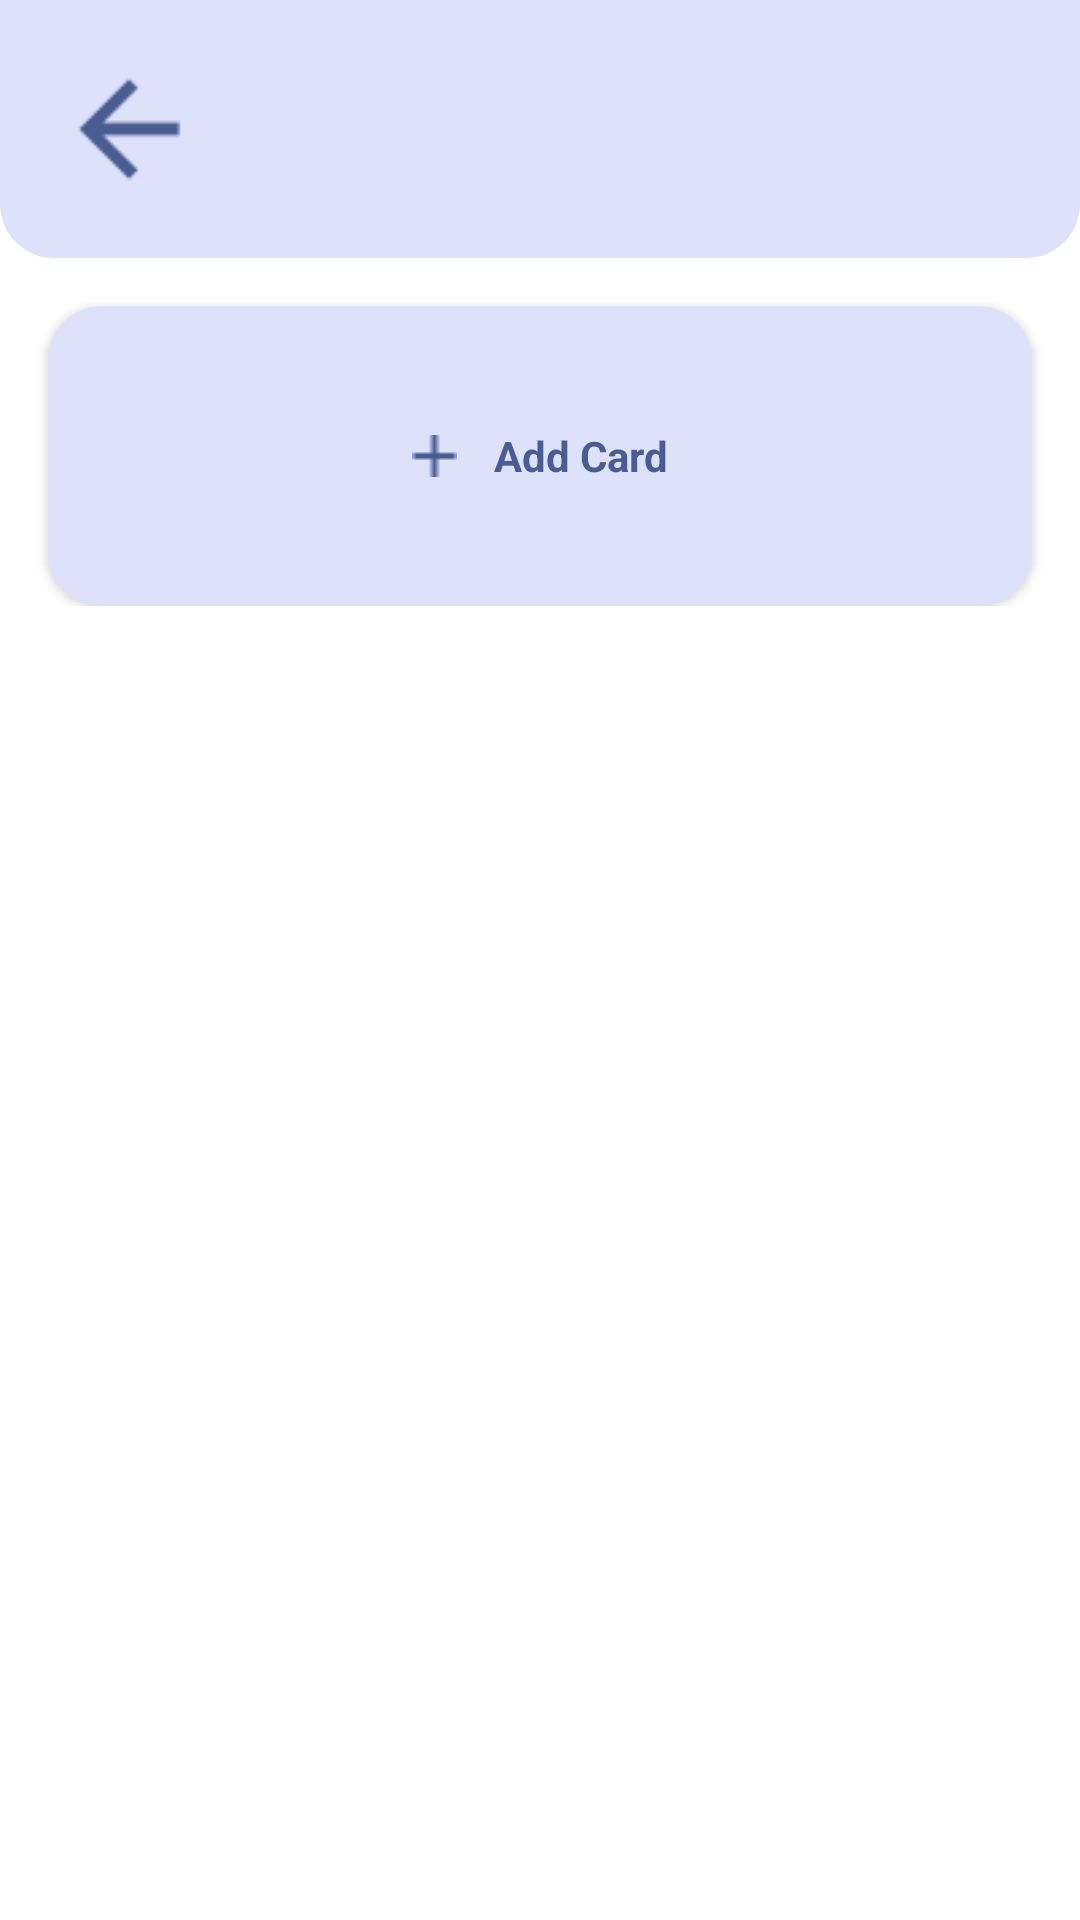

Locate icon controls on the screen. Image size 1080 x 1920, boxes as (x1, y1, x2, y2).
back: (79, 79, 181, 179)
